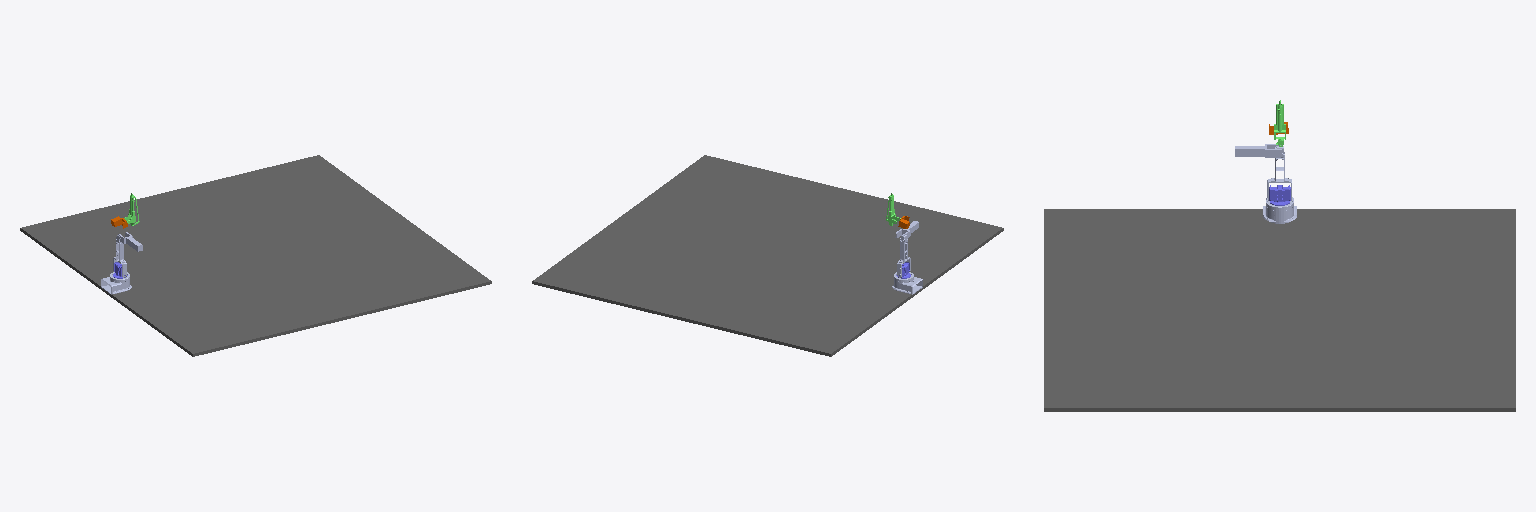
URDF robot description (me557_pen):
<?xml version='1.0' encoding='utf-8'?>
<robot name="me557_pen">
  <link name="base_link">
    <inertial>
      <origin xyz="-0.008662 6.915E-09 0.034203" rpy="0 0 0" />
      <mass value="0.49574" />
      <inertia ixx="0.0011079" ixy="1.4362E-10" ixz="-3.7324E-05" iyy="0.0011344" iyz="-8.7399E-11" izz="0.0016547" />
    </inertial>
    <visual>
      <origin xyz="0 0 0" rpy="0 0 0" />
      <geometry>
        <mesh filename="package://me557_pen_description/meshes/base_link.STL" />
      </geometry>
      <material name="">
        <color rgba="0.79216 0.81961 0.93333 1" />
      </material>
    </visual>
    <collision>
      <origin xyz="0 0 0" rpy="0 0 0" />
      <geometry>
        <mesh filename="package://me557_pen_description/meshes/base_link.STL" />
      </geometry>
    </collision>
  </link>
  <link name="floor">
    <visual>
      <origin xyz="0 0 0" rpy="0 0 0" />
      <geometry>
        <box size="2.0 2.0 0.02" />
      </geometry>
      <material name="floor_gray">
        <color rgba="0.45 0.45 0.45 1" />
      </material>
    </visual>
    <collision>
      <origin xyz="0 0 0" rpy="0 0 0" />
      <geometry>
        <box size="2.0 2.0 0.02" />
      </geometry>
    </collision>
  </link>
  <link name="Link1">
    <inertial>
      <origin xyz="-1.0615E-08 1.3952E-09 0.05044" rpy="0 0 0" />
      <mass value="0.36361" />
      <inertia ixx="0.00030195" ixy="6.1355E-07" ixz="2.7299E-11" iyy="0.0002068" iyz="4.0363E-11" izz="0.00019603" />
    </inertial>
    <visual>
      <origin xyz="0 0 0" rpy="0 0 0" />
      <geometry>
        <mesh filename="package://me557_pen_description/meshes/Link1.STL" />
      </geometry>
      <material name="">
        <color rgba="0.50196 0.50196 1 1" />
      </material>
    </visual>
    <collision>
      <origin xyz="0 0 0" rpy="0 0 0" />
      <geometry>
        <mesh filename="package://me557_pen_description/meshes/Link1.STL" />
      </geometry>
    </collision>
  </link>
  <joint name="base_to_floor" type="fixed">
    <origin xyz="0.91 0 -0.01" rpy="0 0 1.5708" />
    <parent link="base_link" />
    <child link="floor" />
  </joint>
  <joint name="Motor1_joint" type="revolute">
    <origin xyz="0 0 0.05" rpy="0 0 0" />
    <parent link="base_link" />
    <child link="Link1" />
    <axis xyz="0 0 -1" />
    <limit lower="-0.87265" upper="0.87265" effort="0.15" velocity="6.18" />
  </joint>
  <link name="Link2_L">
    <inertial>
      <origin xyz="1.5118E-06 0.13231 0.0003468" rpy="0 0 0" />
      <mass value="0.138435" />
      <inertia ixx="0.00076308" ixy="1.1682E-08" ixz="8.706E-09" iyy="0.00010667" iyz="-3.3149E-06" izz="0.00067538" />
    </inertial>
    <visual>
      <origin xyz="0 0 0" rpy="0 0 0" />
      <geometry>
        <mesh filename="package://me557_pen_description/meshes/Link2_L.STL" />
      </geometry>
      <material name="">
        <color rgba="0.79216 0.81961 0.93333 1" />
      </material>
    </visual>
    <collision>
      <origin xyz="0 0 0" rpy="0 0 0" />
      <geometry>
        <mesh filename="package://me557_pen_description/meshes/Link2_L.STL" />
      </geometry>
    </collision>
  </link>
  <joint name="Motor2_L" type="revolute">
    <origin xyz="0 0 0.049" rpy="1.5708 0 0.0064475" />
    <parent link="Link1" />
    <child link="Link2_L" />
    <axis xyz="0 0 1" />
    <limit lower="-1.047195" upper="1.047195" effort="8" velocity="6.6" />
  </joint>
  <link name="Link4">
    <inertial>
      <origin xyz="0.00036697 0.055834 -0.0004101" rpy="0 0 0" />
      <mass value="0.0915266" />
      <inertia ixx="9.1587E-05" ixy="-1.7788E-06" ixz="-2.7941E-07" iyy="2.5642E-05" iyz="2.0881E-06" izz="8.5875E-05" />
    </inertial>
    <visual>
      <origin xyz="0 0 0" rpy="0 0 0" />
      <geometry>
        <mesh filename="package://me557_pen_description/meshes/Link4.STL" />
      </geometry>
      <material name="">
        <color rgba="0.79216 0.81961 0.93333 1" />
      </material>
    </visual>
    <collision>
      <origin xyz="0 0 0" rpy="0 0 0" />
      <geometry>
        <mesh filename="package://me557_pen_description/meshes/Link4.STL" />
      </geometry>
    </collision>
  </link>
  <joint name="Motor4_elb" type="revolute">
    <origin xyz="0 0.2247 0.00104" rpy="0 0 0" />
    <parent link="Link2_L" />
    <child link="Link4" />
    <axis xyz="0 0 1" />
    <limit lower="-1.876225" upper="1.876225" effort="0.15" velocity="6.18" />
  </joint>
  <link name="Link5">
    <inertial>
      <origin xyz="-0.010184 -0.0007354 0.034941" rpy="0 0 0" />
      <mass value="0.069884" />
      <inertia ixx="1.8975E-05" ixy="3.4773E-08" ixz="4.7677E-06" iyy="2.5817E-05" iyz="2.3142E-07" izz="1.7812E-05" />
    </inertial>
    <visual>
      <origin xyz="0 0 0" rpy="0 0 0" />
      <geometry>
        <mesh filename="package://me557_pen_description/meshes/Link5.STL" />
      </geometry>
      <material name="">
        <color rgba="0.9098 0.44314 0.031373 1" />
      </material>
    </visual>
    <collision>
      <origin xyz="0 0 0" rpy="0 0 0" />
      <geometry>
        <mesh filename="package://me557_pen_description/meshes/Link5.STL" />
      </geometry>
    </collision>
  </link>
  <joint name="Motor5_wr" type="revolute">
    <origin xyz="0.00108 0.0935 -0.001" rpy="1.5708 0 1.5708" />
    <parent link="Link4" />
    <child link="Link5" />
    <axis xyz="0 0 -1" />
    <limit lower="-0.95995" upper="0.95995" effort="0.15" velocity="6.18" />
  </joint>
  <link name="Link6">
    <inertial>
      <origin xyz="0.048807 0.037513 -0.0021456" rpy="0 0 0" />
      <mass value="0.071594" />
      <inertia ixx="2.8223E-05" ixy="-3.704E-06" ixz="-2.8914E-06" iyy="0.00024631" iyz="5.6477E-07" izz="0.00024327" />
    </inertial>
    <visual>
      <origin xyz="0 0 0" rpy="0 0 0" />
      <geometry>
        <mesh filename="package://me557_pen_description/meshes/Link6.STL" />
      </geometry>
      <material name="">
        <color rgba="0.50196 1 0.50196 1" />
      </material>
    </visual>
    <collision>
      <origin xyz="0 0 0" rpy="0 0 0" />
      <geometry>
        <mesh filename="package://me557_pen_description/meshes/Link6.STL" />
      </geometry>
    </collision>
  </link>
  <joint name="Joint_EE" type="revolute">
    <origin xyz="0 -0.001 0.041" rpy="1.5708 0 0" />
    <parent link="Link5" />
    <child link="Link6" />
    <axis xyz="0 0 1" />
    <limit lower="-1.1781" upper="1.1781" effort="0.15" velocity="6.18" />
  </joint>
  <link name="Pen_tip">
    <inertial>
      <origin xyz="1.2388E-08 -1.5096E-08 -0.0095156" rpy="0 0 0" />
      <mass value="0.00049506" />
      <inertia ixx="6.068E-09" ixy="2.1976E-14" ixz="1.8806E-14" iyy="6.0679E-09" iyz="-2.2912E-14" izz="1.8923E-09" />
    </inertial>
    <visual>
      <origin xyz="0 0 0" rpy="0 0 0" />
      <geometry>
        <mesh filename="package://me557_pen_description/meshes/Pen_tip.STL" />
      </geometry>
      <material name="">
        <color rgba="0.50196 1 0.50196 1" />
      </material>
    </visual>
    <collision>
      <origin xyz="0 0 0" rpy="0 0 0" />
      <geometry>
        <mesh filename="package://me557_pen_description/meshes/Pen_tip.STL" />
      </geometry>
    </collision>
  </link>
  <joint name="pen_tip_fixed" type="fixed">
    <origin xyz="0.17403 0.0375 -0.00098" rpy="1.5708 -1.5643 1.5708" />
    <parent link="Link6" />
    <child link="Pen_tip" />
  </joint>
  <link name="Link3_R">
    <inertial>
      <origin xyz="0.052802 -0.10824 0.024307" rpy="0 0 0" />
      <mass value="5.5098" />
      <inertia ixx="0.21583" ixy="0.00015166" ixz="-0.00045441" iyy="0.10918" iyz="0.049251" izz="0.15359" />
    </inertial>
  </link>
  <joint name="Motor3_R" type="revolute">
    <origin xyz="-0.052457 -0.00059406 0.0483" rpy="0 0 0" />
    <parent link="Link1" />
    <child link="Link3_R" />
    <axis xyz="-0.99994 -0.011324 0" />
    <limit lower="-1.0472" upper="1.0472" effort="6" velocity="6.6" />
    <mimic joint="Motor2_L" multiplier="-1" offset="0" />
  </joint>
  <ros2_control name="FakeSystem" type="system">
    <hardware>
      <plugin>mock_components/GenericSystem</plugin>
    </hardware>
    <joint name="Motor1_joint">
      <command_interface name="position" />
      <state_interface name="position">
        <param name="initial_value">0.0</param>
      </state_interface>
      <state_interface name="velocity" />
    </joint>
    <joint name="Motor2_L">
      <command_interface name="position" />
      <state_interface name="position">
        <param name="initial_value">0.0</param>
      </state_interface>
      <state_interface name="velocity" />
    </joint>
    <joint name="Motor4_elb">
      <command_interface name="position" />
      <state_interface name="position">
        <param name="initial_value">0.0</param>
      </state_interface>
      <state_interface name="velocity" />
    </joint>
    <joint name="Motor5_wr">
      <command_interface name="position" />
      <state_interface name="position">
        <param name="initial_value">0.0</param>
      </state_interface>
      <state_interface name="velocity" />
    </joint>
    <joint name="Joint_EE">
      <command_interface name="position" />
      <state_interface name="position">
        <param name="initial_value">0.0</param>
      </state_interface>
      <state_interface name="velocity" />
    </joint>
  </ros2_control>
</robot>

--- Facts derived from the render (not from the file) ---
The picture shows the robot from 3 angles, left to right: view 1: azimuth 30°, elevation 25°; view 2: azimuth 150°, elevation 25°; view 3: azimuth 270°, elevation 25°; orthographic projection.
Robot: me557_pen — 9 links, 8 joints (6 revolute, 2 fixed); root link base_link; default pose: all joints at 0.
Links seen in each view (by area): view 1: floor; view 2: floor; view 3: floor, base_link, Link4.
Link boxes in pixels (x1,y1,x2,y2): floor: [20, 155, 491, 356]; floor: [532, 155, 1003, 356]; floor: [1044, 209, 1515, 411]; base_link: [1263, 197, 1296, 223]; Link4: [1235, 144, 1281, 157].
Size in the robot's own frame: 2.01 by 2 by 0.6112 metres.
7 mesh visuals loaded from 7 distinct referenced files (7 binary STL).
